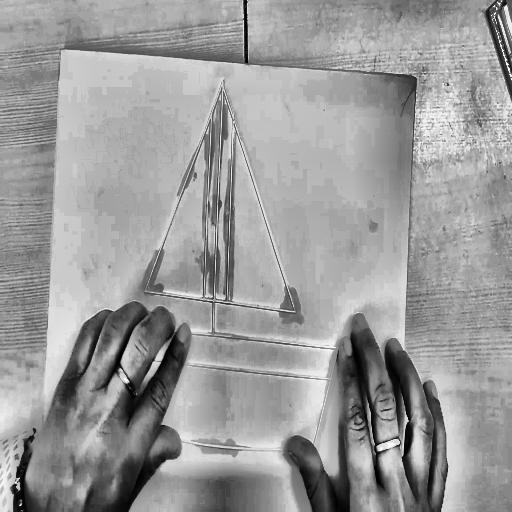boat: (98, 63, 356, 469)
top_left: (57, 44, 64, 57)
top_right: (412, 72, 420, 85)
